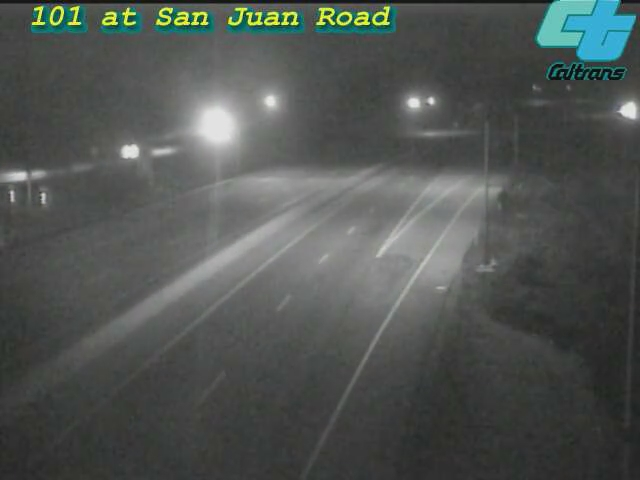vehicle: (603, 86, 640, 136)
